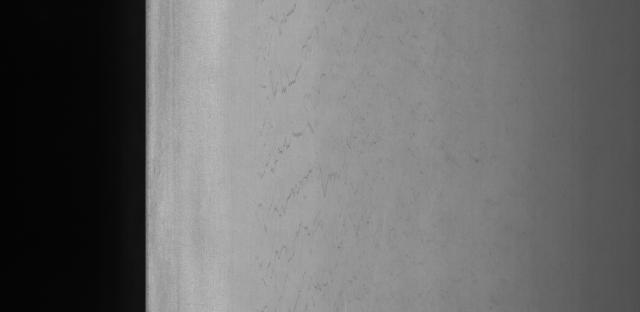silk_spot: (250, 13, 366, 226)
